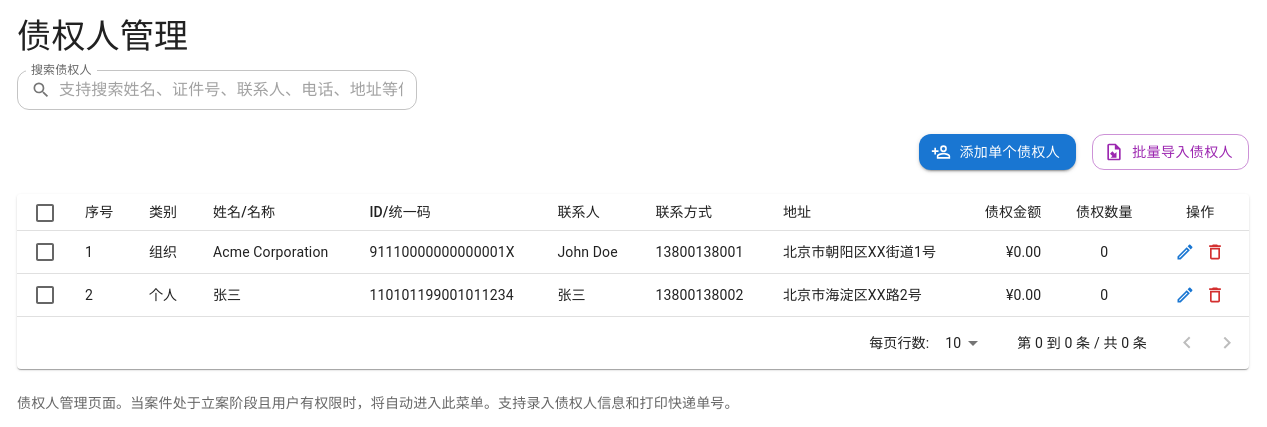
Scenario: Creditors Module Tests › Permission Control (Product Requirement) › shows all management functions for case manager role
The image size is (1267, 427).
Expected: the heading "债权人管理" is shown, [17,16,188,56]
Expected: the column heading "Acme Corporation" is shown, [197,231,353,274]
Click the checkbox that starts with "Acme Corporation" at (633, 253), box [17,231,1249,274]
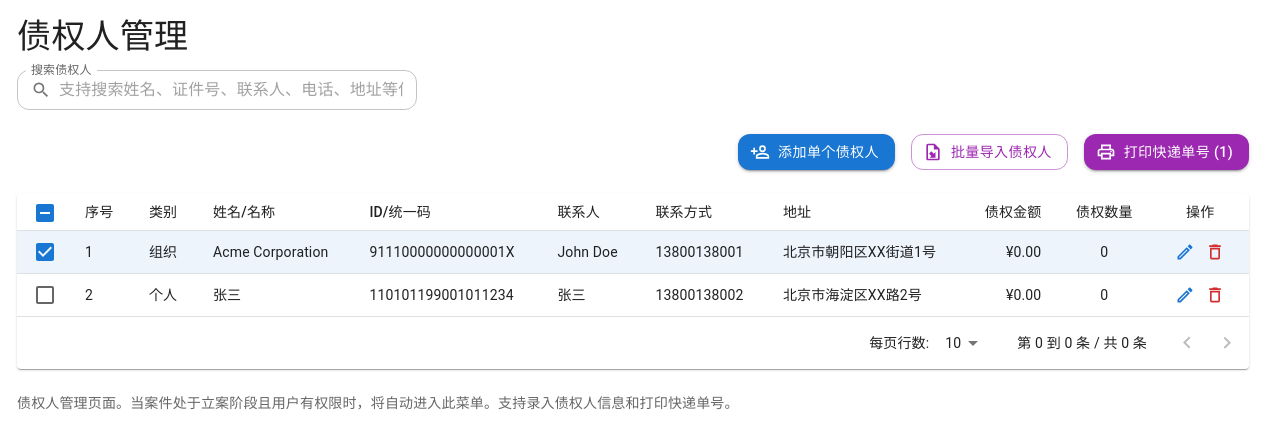
Expected: the button "打印快递单号 (1)" is shown, [1084,134,1249,170]
